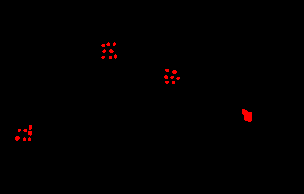Target: (242, 109, 252, 122), (15, 136, 20, 141), (109, 49, 114, 53), (172, 70, 177, 74), (28, 131, 32, 136), (106, 42, 110, 46), (102, 49, 106, 53), (164, 75, 168, 79), (114, 54, 117, 59), (29, 125, 32, 130), (113, 42, 116, 46), (101, 44, 105, 47), (101, 56, 105, 59), (165, 69, 169, 72), (170, 76, 174, 79), (176, 77, 180, 80), (165, 81, 169, 84), (23, 129, 27, 132), (23, 137, 26, 141), (28, 137, 31, 141), (109, 56, 112, 59), (172, 81, 175, 84), (18, 129, 21, 132)
